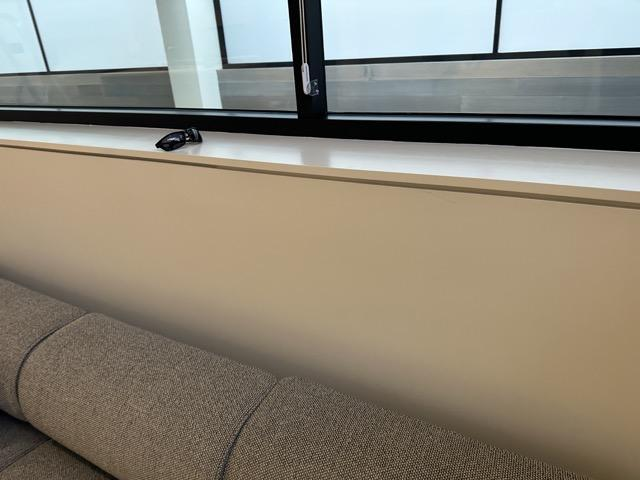Sunglasses: (154, 125, 203, 151)
